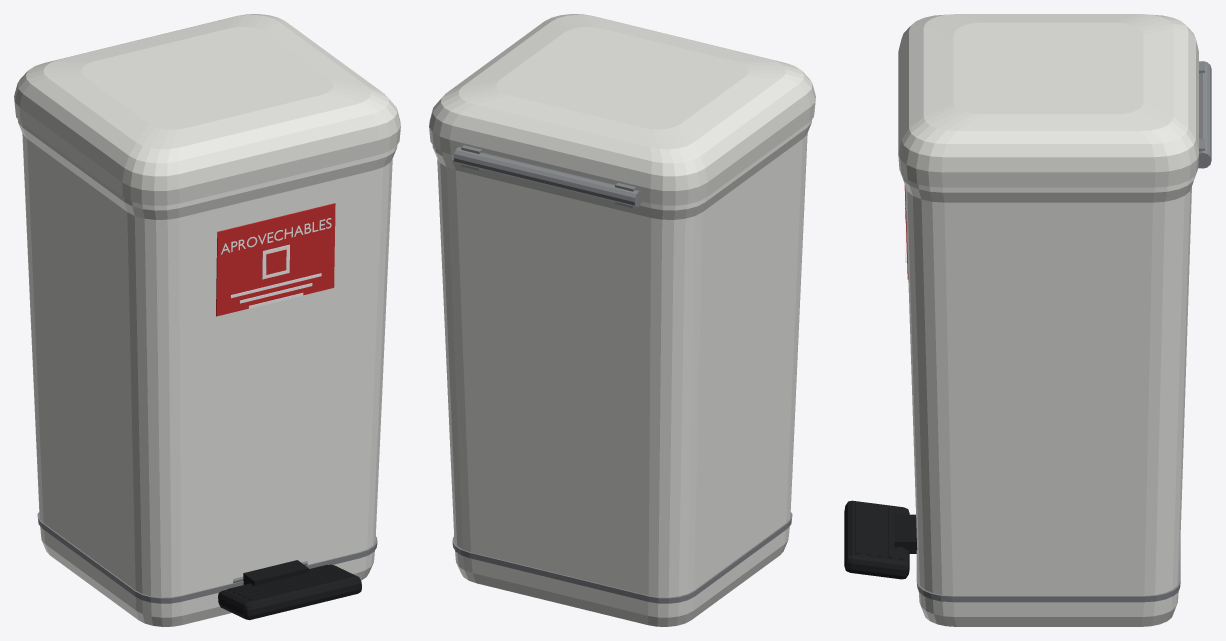
Rendered from riwi-caneca.glb.
The picture shows the model from 3 angles, left to right: view 1: azimuth 30°, elevation 25°; view 2: azimuth 150°, elevation 25°; view 3: azimuth 270°, elevation 25°; orthographic projection. The views are drawn at different scales.
Visible parts, largest first — view 1: Riwi_Caneca_Caneca_Blanco, Riwi_Caneca_Caneca_Tapa, Riwi_Caneca_Caneca_Etiqueta, Riwi_Caneca_Caneca_Pedal, Riwi_Caneca_Caneca_Gris, Riwi_Caneca_Caneca_Texto; view 2: Riwi_Caneca_Caneca_Blanco, Riwi_Caneca_Caneca_Tapa, Riwi_Caneca_Caneca_Gris; view 3: Riwi_Caneca_Caneca_Blanco, Riwi_Caneca_Caneca_Tapa, Riwi_Caneca_Caneca_Pedal, Riwi_Caneca_Caneca_Gris.
Part boxes in pixels (bbox=[...]): Riwi_Caneca_Caneca_Blanco: bbox=[17, 119, 397, 626]; Riwi_Caneca_Caneca_Tapa: bbox=[14, 14, 400, 205]; Riwi_Caneca_Caneca_Etiqueta: bbox=[216, 203, 335, 316]; Riwi_Caneca_Caneca_Pedal: bbox=[218, 560, 361, 620]; Riwi_Caneca_Caneca_Gris: bbox=[37, 512, 377, 603]; Riwi_Caneca_Caneca_Texto: bbox=[221, 218, 331, 308]; Riwi_Caneca_Caneca_Blanco: bbox=[432, 119, 812, 626]; Riwi_Caneca_Caneca_Tapa: bbox=[429, 14, 815, 205]; Riwi_Caneca_Caneca_Gris: bbox=[452, 145, 792, 603]; Riwi_Caneca_Caneca_Blanco: bbox=[901, 175, 1195, 626]; Riwi_Caneca_Caneca_Tapa: bbox=[898, 14, 1198, 187]; Riwi_Caneca_Caneca_Pedal: bbox=[844, 500, 917, 579]; Riwi_Caneca_Caneca_Gris: bbox=[916, 61, 1211, 602].
Bounding box in the file's own units: 0.302 × 0.509 × 0.3381.
